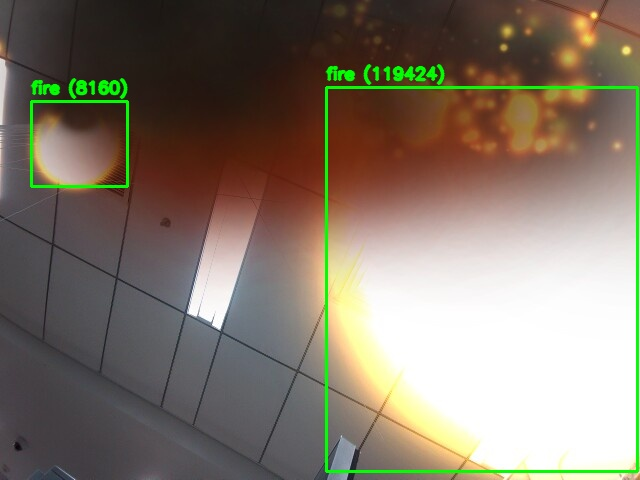fire: (326, 87, 637, 471), (31, 101, 127, 186)
